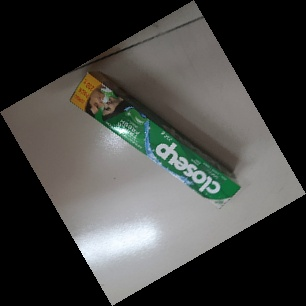CloseUp Xanh: (69, 69, 241, 214)
